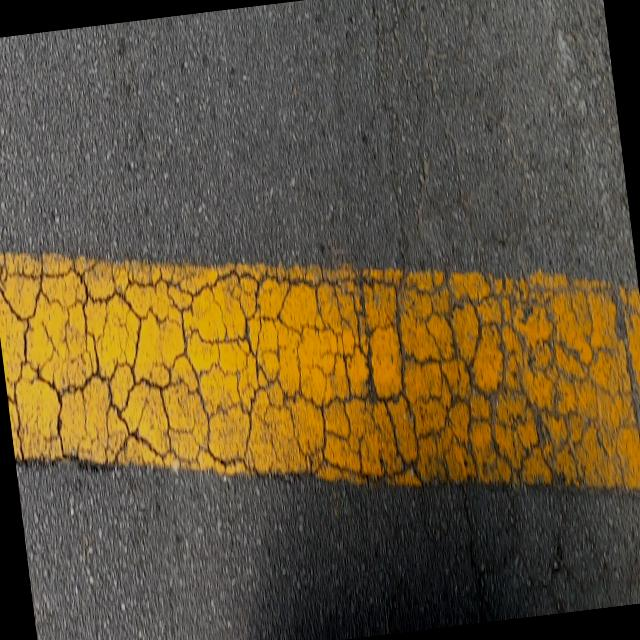Retak-Buaya: (0, 250, 640, 489)
